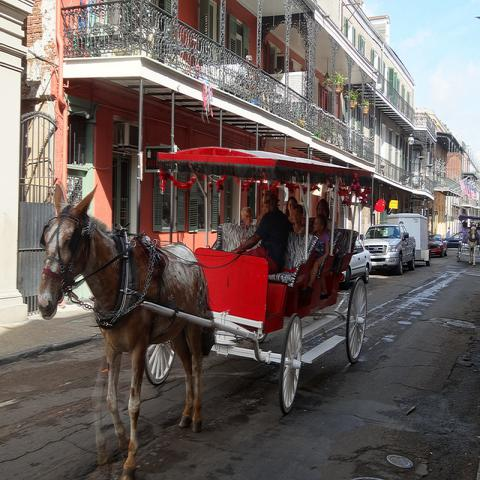car: (340, 238, 372, 290), (428, 234, 448, 258), (443, 232, 464, 249)
truck: (360, 220, 418, 275), (388, 213, 431, 265)
